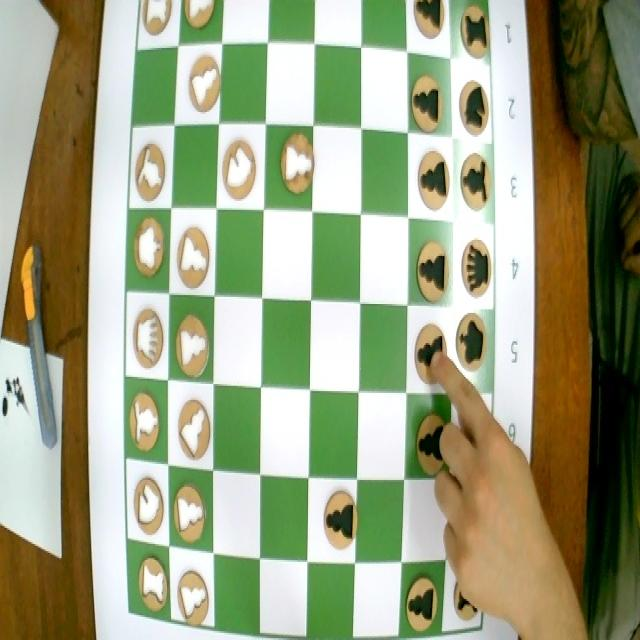chess-pieces: (215, 133, 261, 207), (272, 125, 313, 201), (127, 304, 168, 377), (413, 230, 451, 306), (128, 214, 169, 284), (454, 315, 496, 383), (175, 393, 214, 465), (171, 311, 211, 381), (411, 403, 449, 476), (176, 218, 212, 294), (170, 482, 210, 550), (130, 140, 170, 207), (402, 569, 442, 635), (412, 150, 453, 214), (128, 549, 169, 612), (409, 68, 446, 137), (127, 470, 164, 539), (183, 55, 225, 115), (459, 233, 494, 304), (126, 391, 164, 456), (321, 486, 358, 552), (459, 149, 494, 216), (456, 79, 493, 141), (414, 322, 448, 388), (177, 572, 212, 634), (459, 3, 492, 63), (412, 0, 447, 46), (180, 0, 220, 37), (138, 0, 174, 41)
